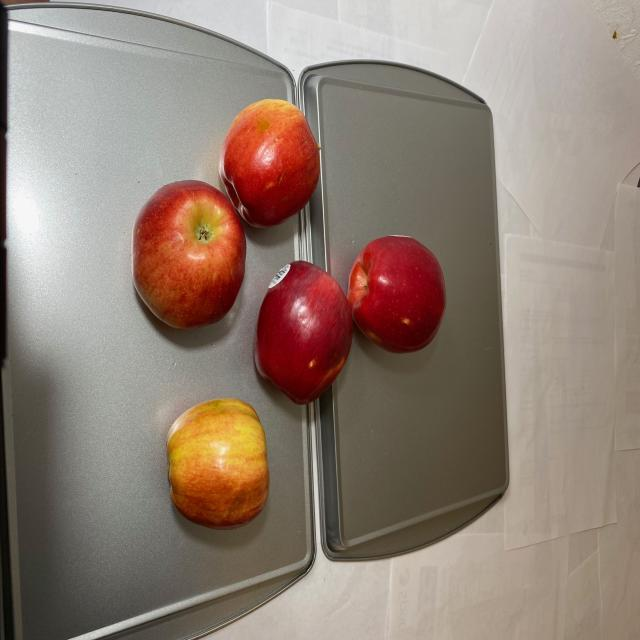apple: (139, 103, 447, 536)
